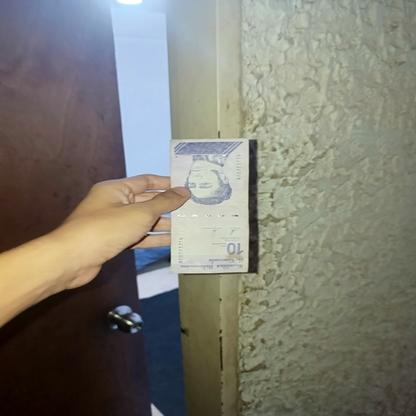ten-front-vef: (167, 137, 250, 274)
